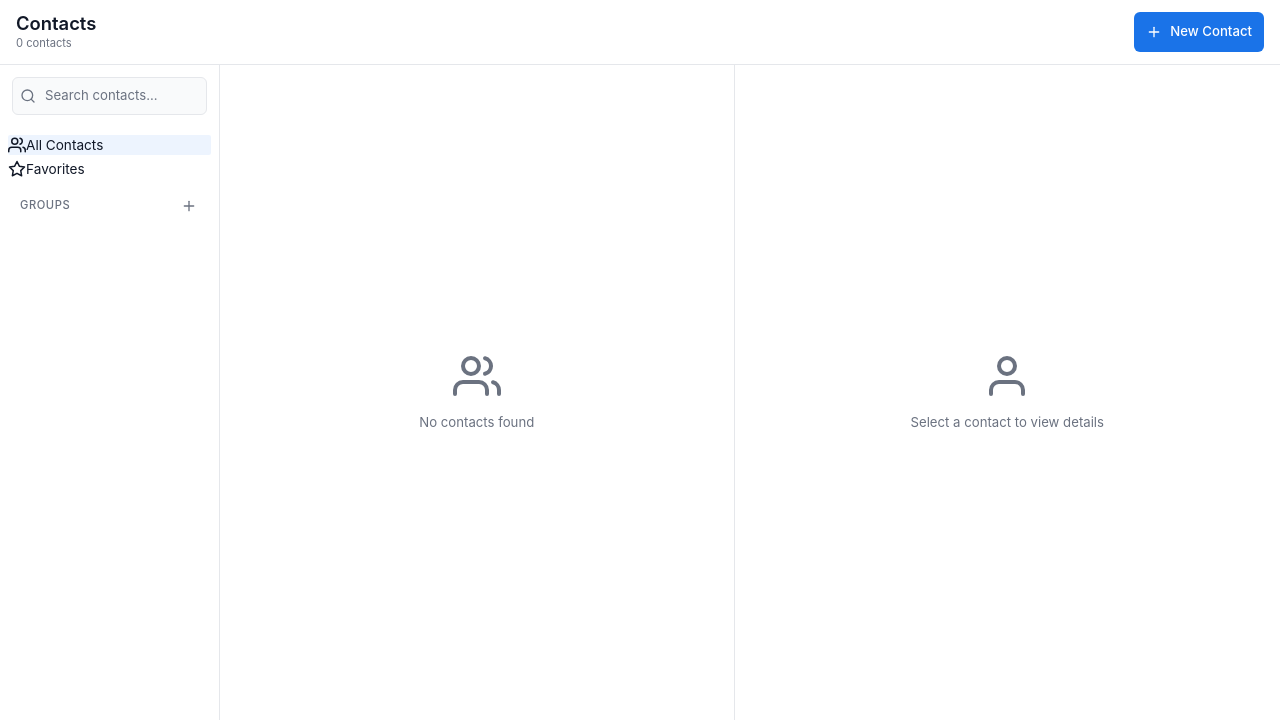
ContactsPanel - Create contact form › shows create form when New Contact button is clicked
Click the button "New Contact": (1199, 32) [1134,12,1264,52]
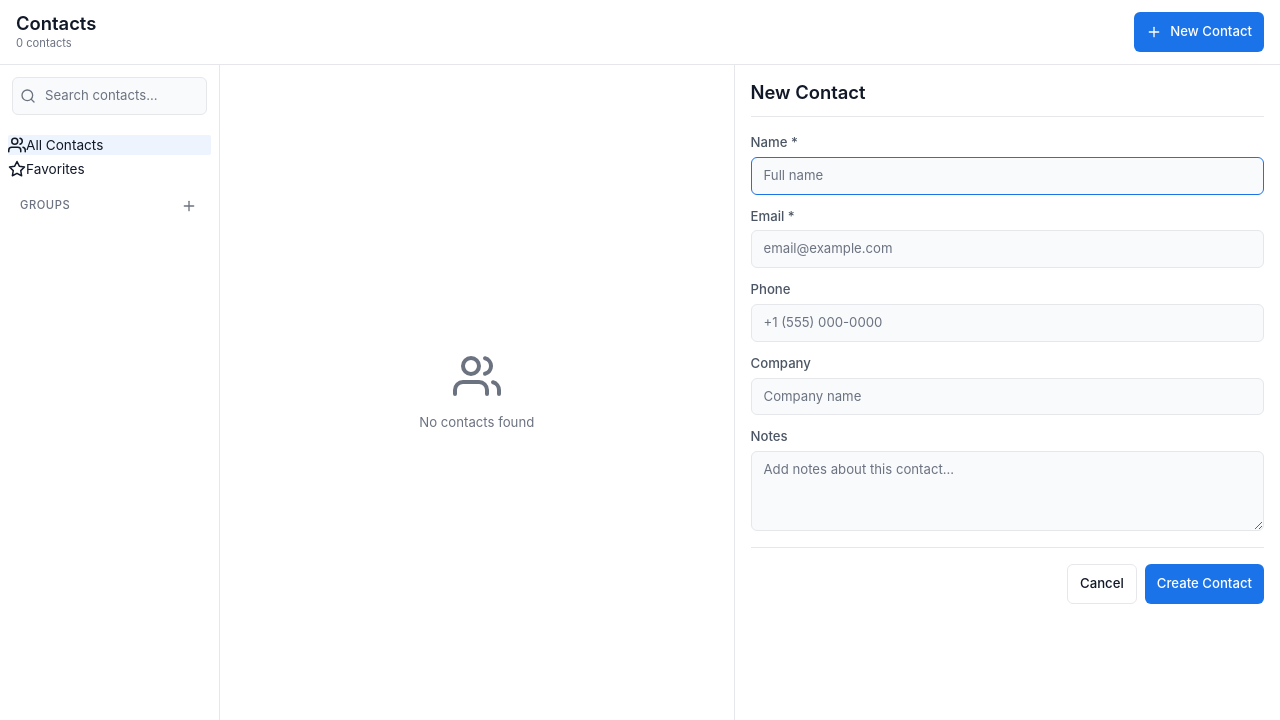
Expected: the field labelled "Name *" is shown, [750,157,1264,195]
Expected: the field labelled "Email *" is shown, [750,230,1264,268]
